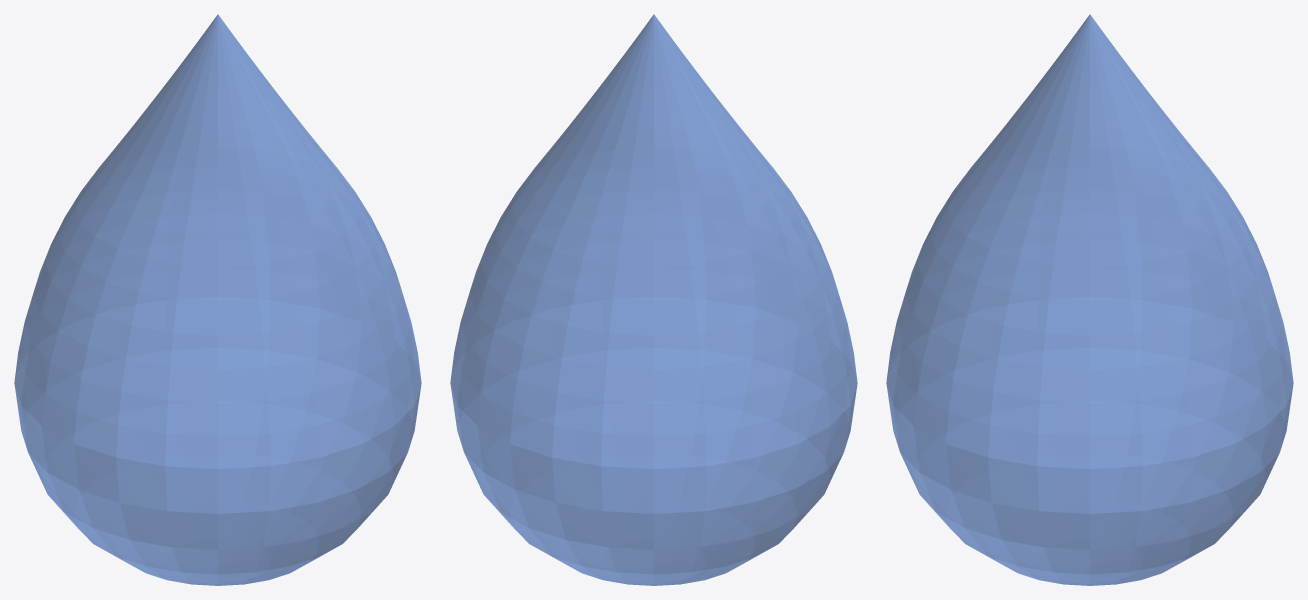
The model's file is water.gltf.
The picture shows the model from 3 angles, left to right: view 1: azimuth 30°, elevation 25°; view 2: azimuth 150°, elevation 25°; view 3: azimuth 270°, elevation 25°; orthographic projection.
Parts seen in each view (by area): view 1: skpC920; view 2: skpC920; view 3: skpC920.
Part boxes in pixels (bbox=[...]): skpC920: bbox=[14, 14, 421, 585]; skpC920: bbox=[450, 14, 857, 585]; skpC920: bbox=[886, 14, 1293, 585].
Size of the model in its own units: 1.83 by 2.74 by 1.83.
